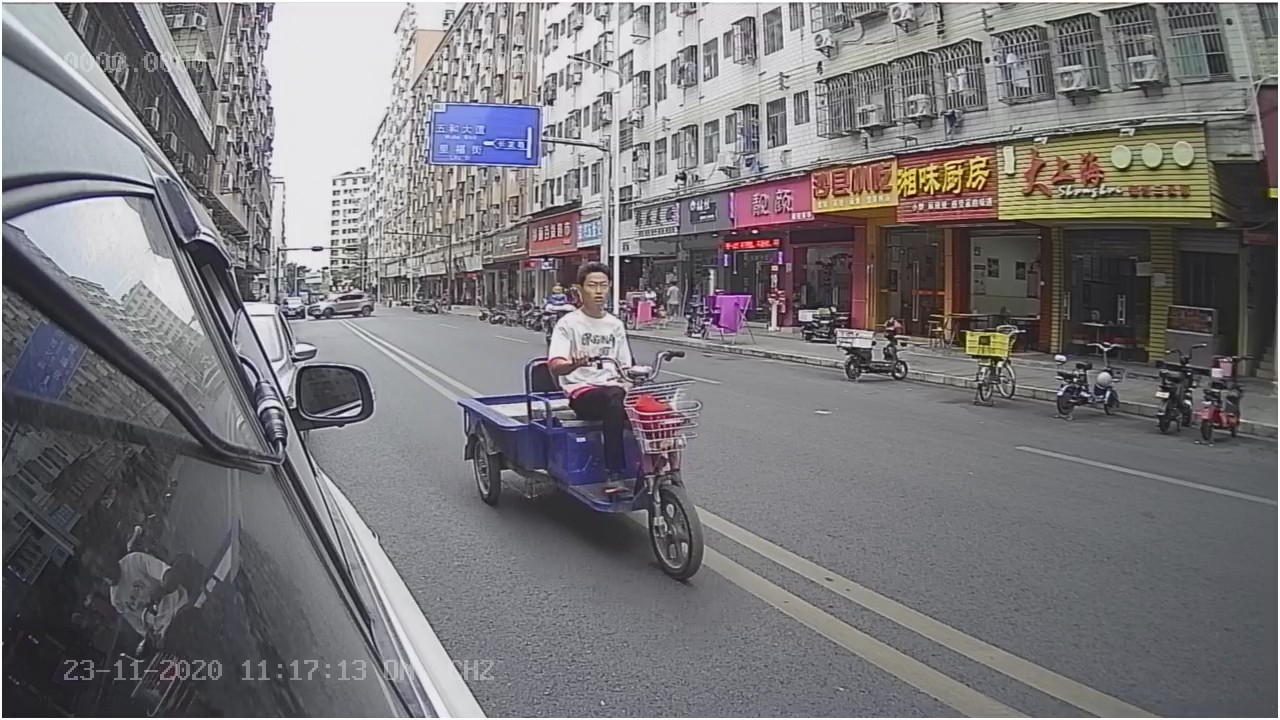person: (541, 255, 636, 352)
